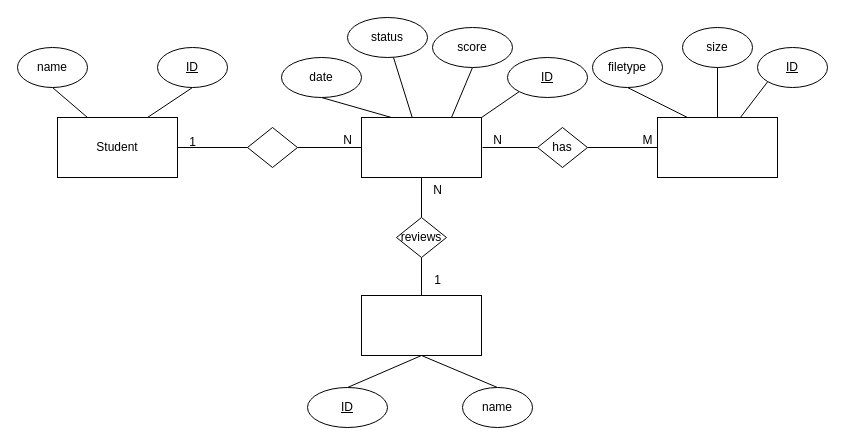
Image size: 845x445. Some labels were removed from this diagram. Each missing label, with the centre of its shape:
Admin: the point at 421,325
Document: the point at 717,147
makes: the point at 272,147
Submission: the point at 421,147
